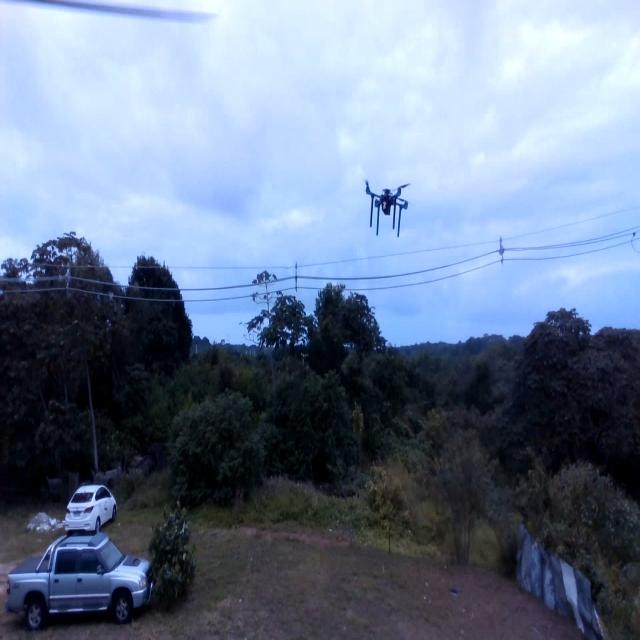-uav-: (354, 169, 417, 240)
